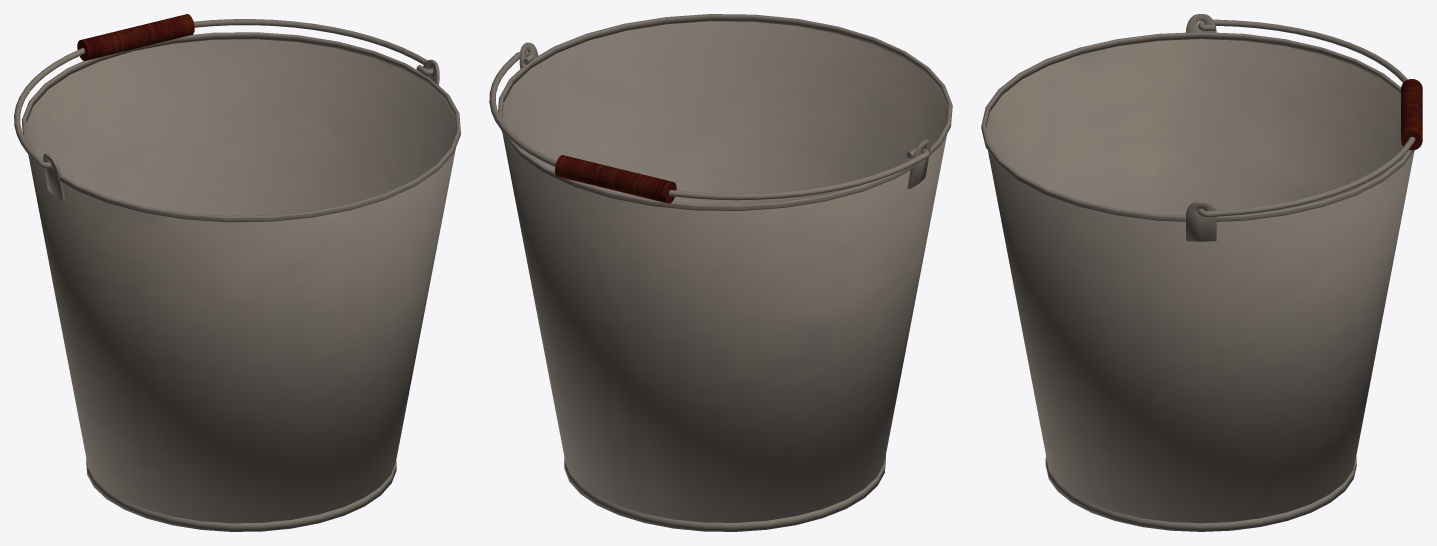
The model's file is bucket.fbx.
The picture shows the model from 3 angles, left to right: view 1: azimuth 30°, elevation 25°; view 2: azimuth 150°, elevation 25°; view 3: azimuth 270°, elevation 25°; orthographic projection. The views are drawn at different scales.
Visible parts, largest first — view 1: bucket body, lip, bucket foot, Wood Handle, handle wire.001, handle wire, handle anchor; view 2: bucket body, lip, bucket foot, Wood Handle, handle wire, handle wire.001, handle anchor; view 3: bucket body, lip, bucket foot, handle wire.001, handle wire, Wood Handle, handle anchor.001.
Boxes of the visible parts, <box> form: bucket body: <box>26,39,456,523</box>; lip: <box>22,32,460,222</box>; bucket foot: <box>86,459,396,531</box>; Wood Handle: <box>77,14,194,60</box>; handle wire.001: <box>194,19,432,75</box>; handle wire: <box>14,48,84,168</box>; handle anchor: <box>43,153,65,201</box>; bucket body: <box>502,21,947,522</box>; lip: <box>498,14,952,210</box>; bucket foot: <box>564,455,885,531</box>; Wood Handle: <box>555,155,676,203</box>; handle wire: <box>669,148,929,200</box>; handle wire.001: <box>489,52,556,166</box>; handle anchor: <box>907,139,930,189</box>; bucket body: <box>986,39,1414,523</box>; lip: <box>981,32,1414,221</box>; bucket foot: <box>1045,456,1356,531</box>; handle wire.001: <box>1198,137,1415,217</box>; handle wire: <box>1198,19,1407,82</box>; Wood Handle: <box>1401,79,1422,150</box>; handle anchor.001: <box>1186,201,1216,241</box>.
Size of the model in its own units: 29.88 by 25.9 by 28.67.
2 materials, 2 textured.
